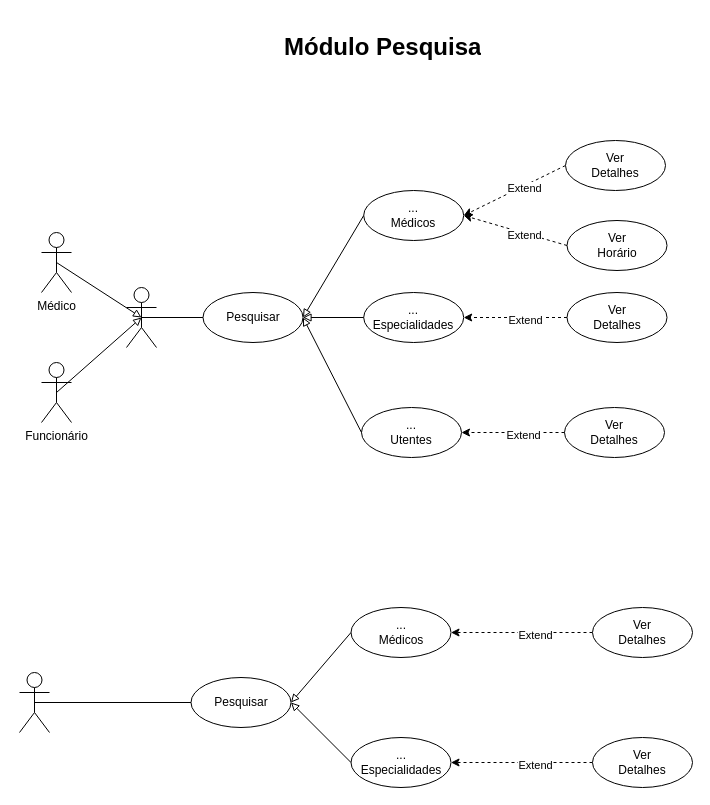
The diagram is 710 pixels wide and 805 high, and some of its shapes have lost their labels. Here are the shapes that lost their labels. From the top down, the box of each, then its label:
(126, 286, 156, 348): Utilizador Clinico
(18, 672, 50, 732): Utente
